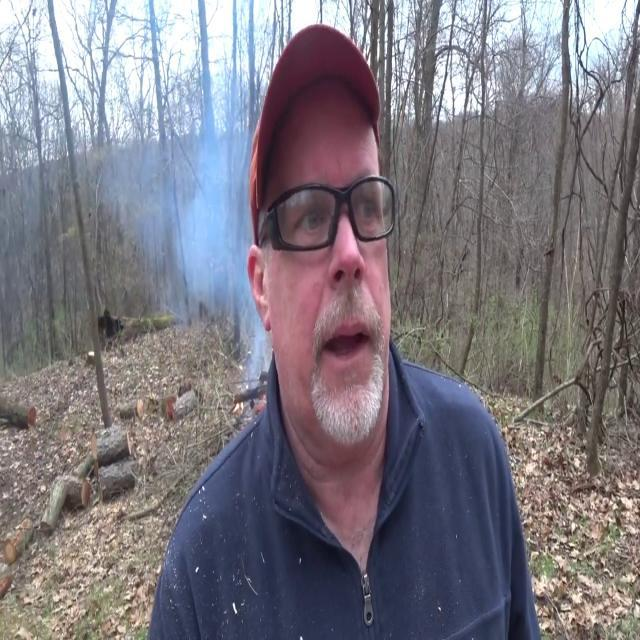Smoke: (130, 32, 270, 378)
